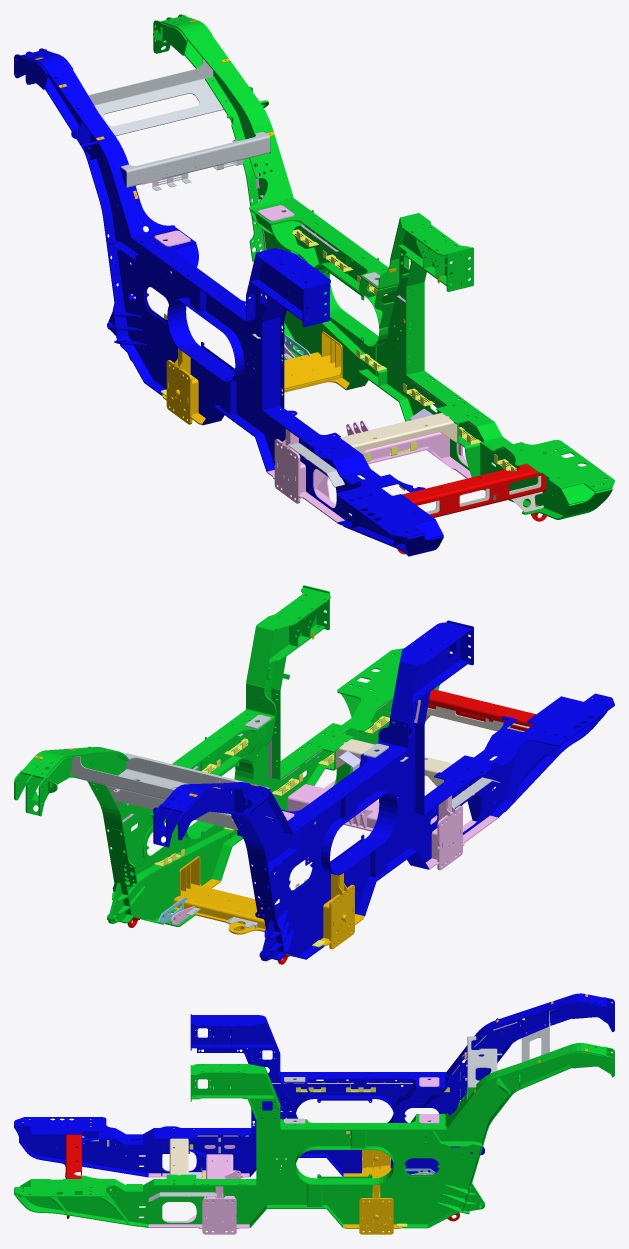
The picture shows the model from 3 angles, top to bottom: view 1: azimuth 30°, elevation 25°; view 2: azimuth 150°, elevation 25°; view 3: azimuth 270°, elevation 25°; orthographic projection. The views are drawn at different scales.
Visible parts, largest first — view 1: TC050-001-003-001.PRT Body:1, TC050-001-003-002.PRT Body:1, TC050-001-002-002.PRT Body:1, TC050-001-002-003.PRT Body:1, TC050-001-003-003.PRT Body:1, TC050-001-001-023.PRT Body:1, TC050-001-002-001.PRT Body:1, TC050-001-003-013.PRT Body:1, TC050-001-001-002.PRT Body:1, TC050-001-002-013.PRT Body:1, TC050-001-001-024.PRT Body:1, TC050-001-002-004.PRT Body:1 (+24 smaller); view 2: TC050-001-003-001.PRT Body:1, TC050-001-003-002.PRT Body:1, TC050-001-002-001.PRT Body:1, TC050-001-003-013.PRT Body:1, TC050-001-002-002.PRT Body:1, TC050-001-001-024.PRT Body:1, TC050-001-003-004.PRT Body:1, TC050-001-003-009.PRT Body:1, TC050-001-003-011.PRT Body:1 (×2), TC050-001-002-010.PRT Body:1, TC050-001-002-013.PRT Body:1, TC050-001-002-004.PRT Body:1 (+29 smaller); view 3: TC050-001-002-002.PRT Body:1, TC050-001-002-001.PRT Body:1, TC050-001-003-002.PRT Body:1, TC050-001-003-001.PRT Body:1, TC050-001-003-013.PRT Body:1, TC050-001-002-013.PRT Body:1, TC050-001-004-001.PRT Body:1 (×2), TC050-001-003-003.PRT Body:1, TC050-001-002-003.PRT Body:1, TC050-001-003-004.PRT Body:1, TC050-001-002-004.PRT Body:1, TC050-001-003-012.PRT Body:1 (+23 smaller).
Boxes of the visible parts, left/top/right/bottom form: TC050-001-003-001.PRT Body:1: left=48, top=75, right=219, bottom=417; TC050-001-003-002.PRT Body:1: left=205, top=259, right=415, bottom=544; TC050-001-002-002.PRT Body:1: left=347, top=224, right=568, bottom=515; TC050-001-002-003.PRT Body:1: left=159, top=15, right=298, bottom=254; TC050-001-003-003.PRT Body:1: left=20, top=49, right=175, bottom=238; TC050-001-001-023.PRT Body:1: left=88, top=58, right=223, bottom=136; TC050-001-002-001.PRT Body:1: left=202, top=57, right=372, bottom=382; TC050-001-003-013.PRT Body:1: left=337, top=474, right=435, bottom=538; TC050-001-001-002.PRT Body:1: left=402, top=464, right=546, bottom=517; TC050-001-002-013.PRT Body:1: left=496, top=440, right=614, bottom=492; TC050-001-001-024.PRT Body:1: left=120, top=131, right=269, bottom=187; TC050-001-002-004.PRT Body:1: left=250, top=197, right=408, bottom=289; TC050-001-003-001.PRT Body:1: left=179, top=788, right=370, bottom=955; TC050-001-003-002.PRT Body:1: left=356, top=632, right=559, bottom=863; TC050-001-002-001.PRT Body:1: left=35, top=753, right=229, bottom=920; TC050-001-003-013.PRT Body:1: left=484, top=693, right=614, bottom=757; TC050-001-002-002.PRT Body:1: left=205, top=600, right=394, bottom=834; TC050-001-001-024.PRT Body:1: left=107, top=753, right=269, bottom=830; TC050-001-003-004.PRT Body:1: left=281, top=718, right=408, bottom=834; TC050-001-003-009.PRT Body:1: left=390, top=622, right=472, bottom=722; TC050-001-003-011.PRT Body:1 (×2): left=321, top=790, right=397, bottom=875; TC050-001-002-010.PRT Body:1: left=246, top=587, right=330, bottom=687; TC050-001-002-013.PRT Body:1: left=337, top=648, right=404, bottom=722; TC050-001-002-004.PRT Body:1: left=172, top=683, right=276, bottom=768; TC050-001-002-002.PRT Body:1: left=25, top=1073, right=350, bottom=1224; TC050-001-002-001.PRT Body:1: left=322, top=1055, right=570, bottom=1224; TC050-001-003-002.PRT Body:1: left=21, top=1023, right=354, bottom=1173; TC050-001-003-001.PRT Body:1: left=317, top=1002, right=595, bottom=1173; TC050-001-003-013.PRT Body:1: left=15, top=1117, right=126, bottom=1145; TC050-001-002-013.PRT Body:1: left=15, top=1175, right=126, bottom=1196; TC050-001-004-001.PRT Body:1 (×2): left=359, top=1151, right=393, bottom=1234; TC050-001-003-003.PRT Body:1: left=423, top=993, right=606, bottom=1107; TC050-001-002-003.PRT Body:1: left=445, top=1043, right=606, bottom=1129; TC050-001-003-004.PRT Body:1: left=279, top=1053, right=446, bottom=1088; TC050-001-002-004.PRT Body:1: left=279, top=1104, right=447, bottom=1130; TC050-001-003-012.PRT Body:1: left=126, top=1126, right=256, bottom=1145.
Bounding box in the file's own units: 2190 × 2360 × 7019.
